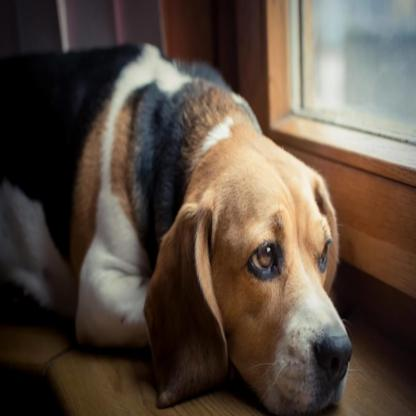dog: (55, 29, 358, 415)
